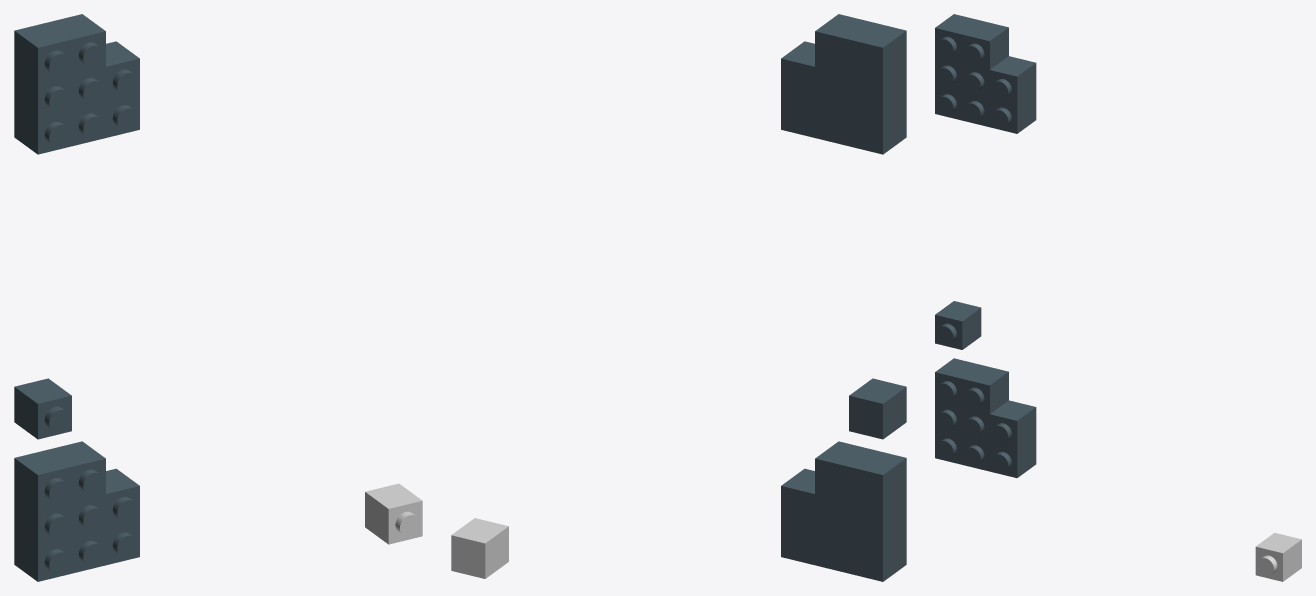
Rendered from current.glb.
3 renders of one model, left to right at view 1: azimuth 30°, elevation 25°; view 2: azimuth 150°, elevation 25°; view 3: azimuth 330°, elevation 25°, orthographic. The views are drawn at different scales.
Visible parts, largest first — view 1: world; view 2: world; view 3: world.
Boxes of the visible parts, x1,y1,x2,y2 form: world: [14, 14, 422, 581]; world: [451, 14, 906, 581]; world: [935, 14, 1301, 581].
Bounding box in the file's own units: 96 × 136 × 21.
